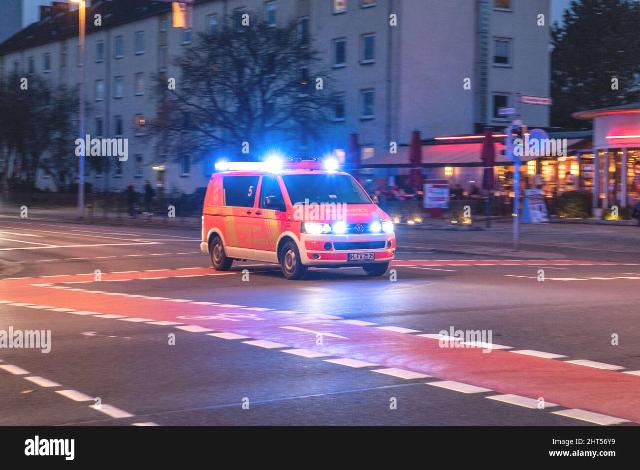ambulance: (199, 155, 402, 284)
